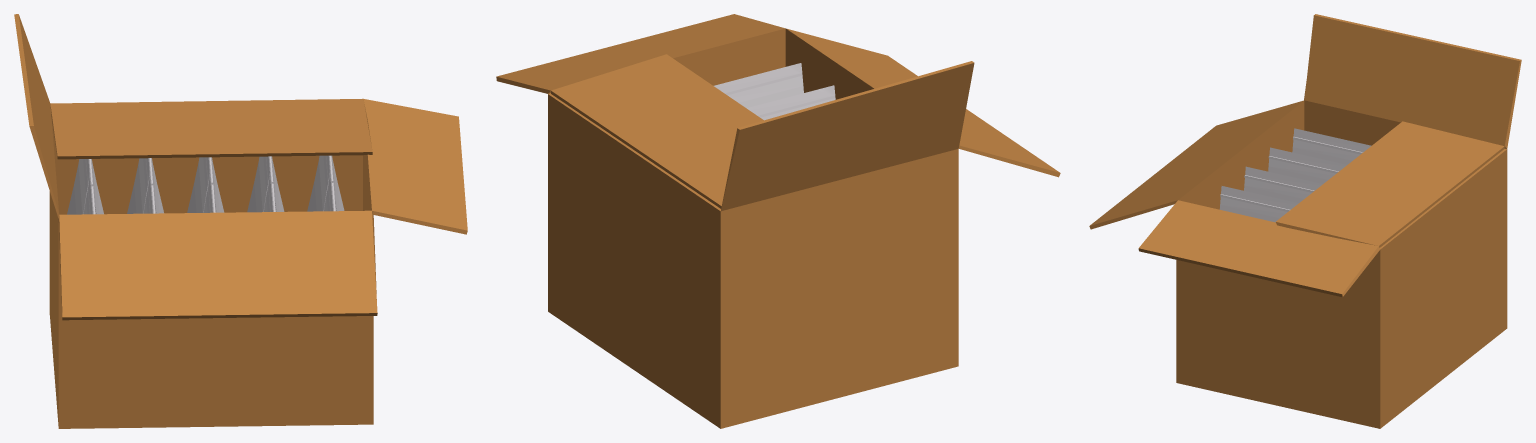
Rendered from dus_packaging_2.glb.
3 views of the same model, side by side, from view 1: azimuth 30°, elevation 25°; view 2: azimuth 150°, elevation 25°; view 3: azimuth 270°, elevation 25° (orthographic). The views are drawn at different scales.
Parts seen in each view (by area): view 1: Cube.002; view 2: Cube.002; view 3: Cube.002.
Part boxes in pixels (bbox=[...]): Cube.002: bbox=[14, 14, 467, 428]; Cube.002: bbox=[496, 14, 1060, 428]; Cube.002: bbox=[1089, 14, 1521, 428].
Bounding box in the file's own units: 1.77 × 1.09 × 1.65.
